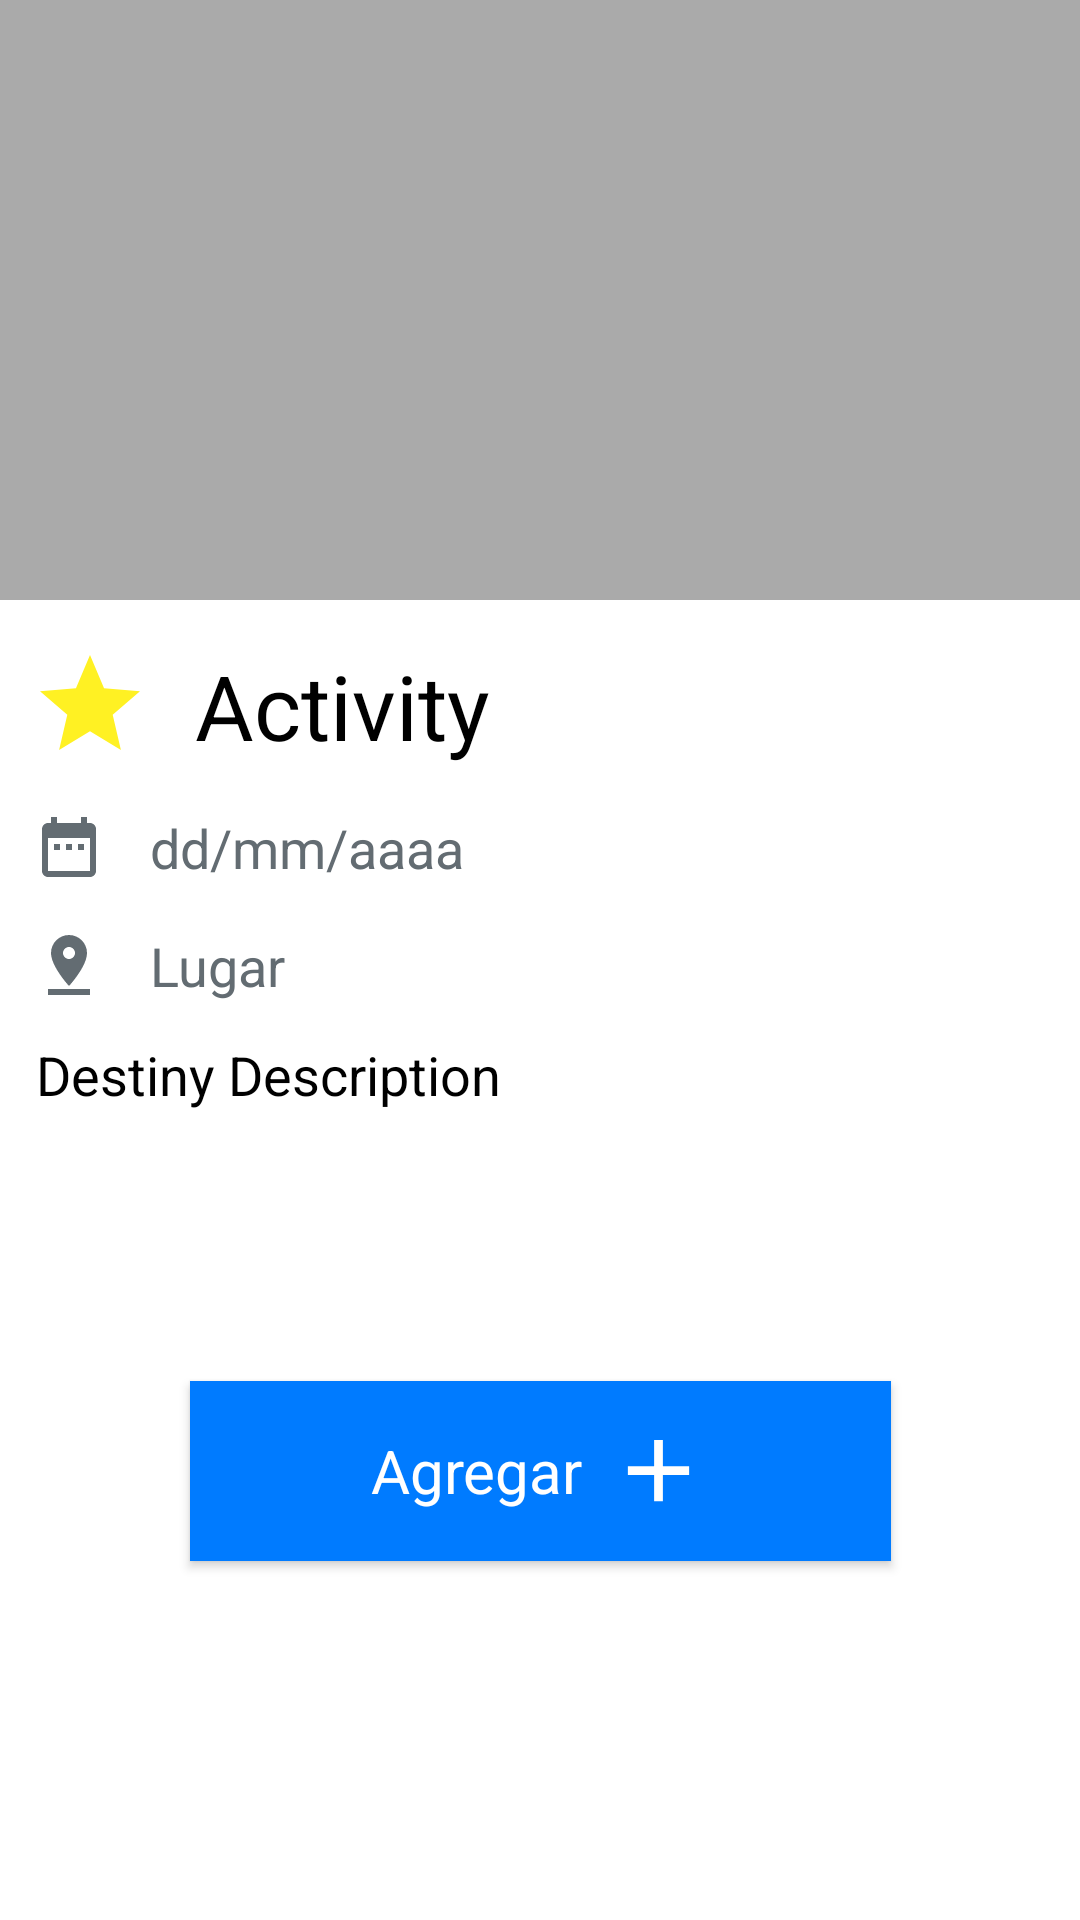

Where to tap for icons on this 1080×1920 app screen, as point (x, y):
date range: point (69, 847)
pin drop: point (69, 965)
star: point (90, 702)
